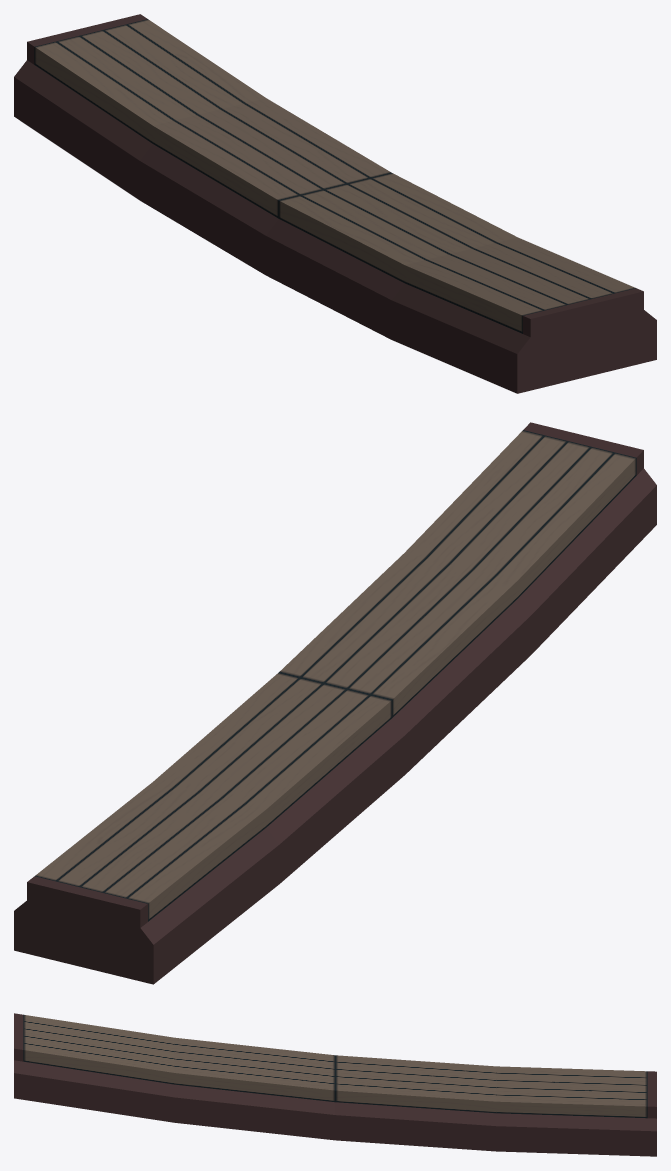
Rendered from SW_ENV_EL_TrackBase_Walkway_Central_Riser_A.fbx.
3 views of the same model, one above another, from view 1: azimuth 30°, elevation 25°; view 2: azimuth 150°, elevation 25°; view 3: azimuth 270°, elevation 25° (orthographic). The views are drawn at different scales.
Parts seen in each view (by area): view 1: SW_ENV_EL_TrackBase_Walkway_Central_Riser_A; view 2: SW_ENV_EL_TrackBase_Walkway_Central_Riser_A; view 3: SW_ENV_EL_TrackBase_Walkway_Central_Riser_A.
Boxes of the visible parts, box(x1,y1,x2,y2) form: SW_ENV_EL_TrackBase_Walkway_Central_Riser_A: box(14, 14, 656, 393); SW_ENV_EL_TrackBase_Walkway_Central_Riser_A: box(14, 422, 656, 984); SW_ENV_EL_TrackBase_Walkway_Central_Riser_A: box(14, 1013, 656, 1156).
Size of the model in its own units: 1.6 by 1.79 by 10.
